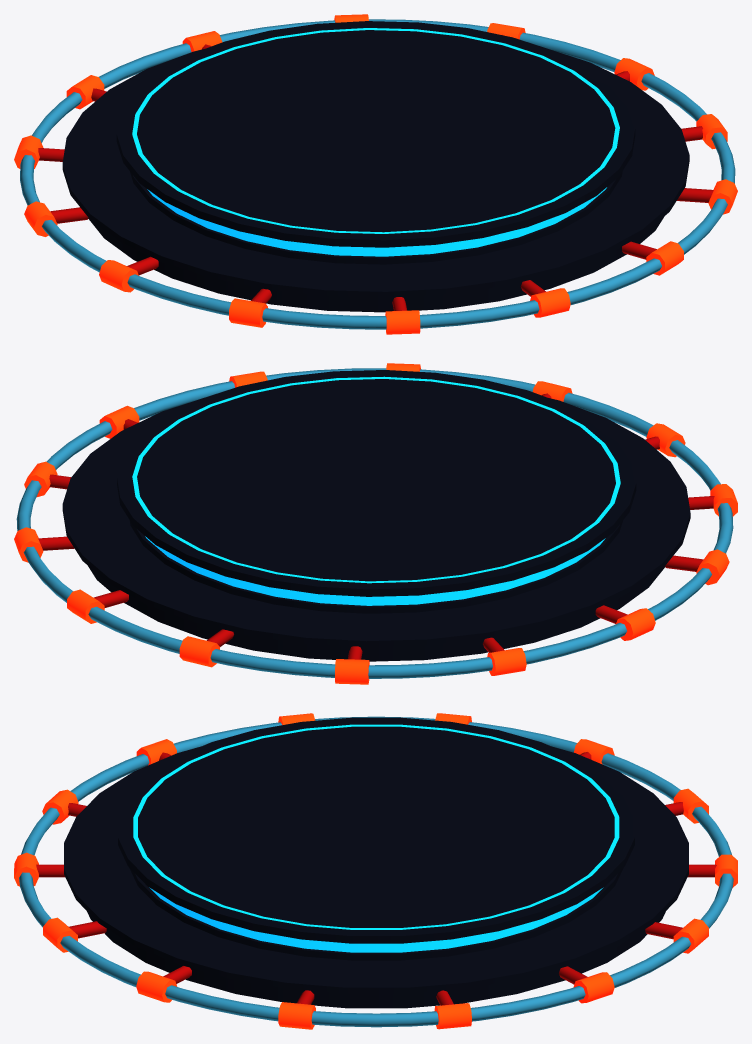
Rendered from Stage_l 1.fbx.
3 renders of one model, top to bottom at view 1: azimuth 30°, elevation 25°; view 2: azimuth 150°, elevation 25°; view 3: azimuth 270°, elevation 25°, orthographic.
Visible parts, largest first — view 1: Stage_l; view 2: Stage_l; view 3: Stage_l.
Boxes of the visible parts, <box> form: Stage_l: <box>14,14,737,334</box>; Stage_l: <box>14,363,737,684</box>; Stage_l: <box>14,713,737,1029</box>.
Bounding box in the file's own units: 447 × 450 × 38.27.
